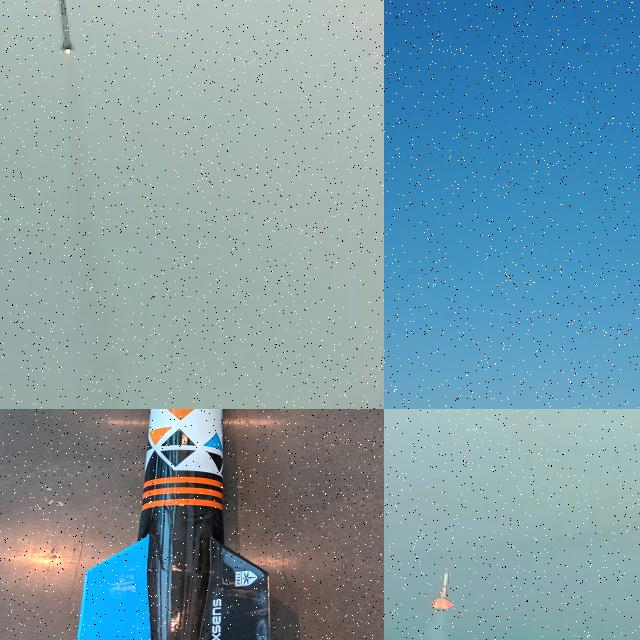Rocket: (77, 409, 272, 640), (54, 0, 77, 49), (429, 570, 456, 610)
